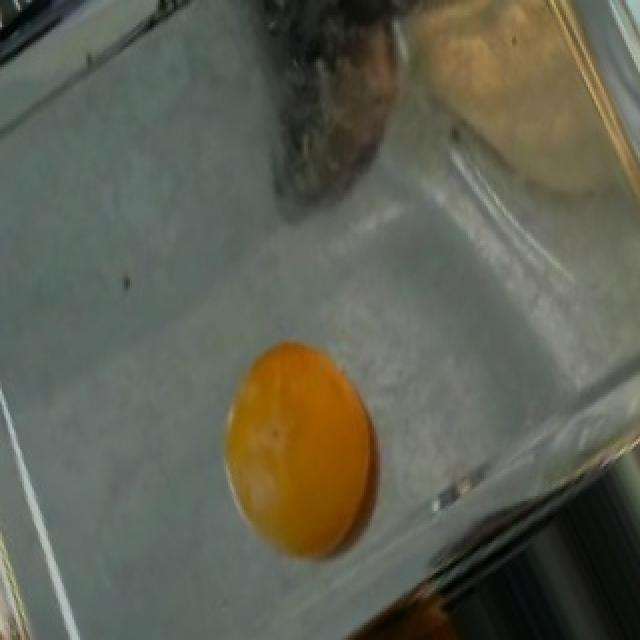Fruit: (210, 335, 398, 585)
